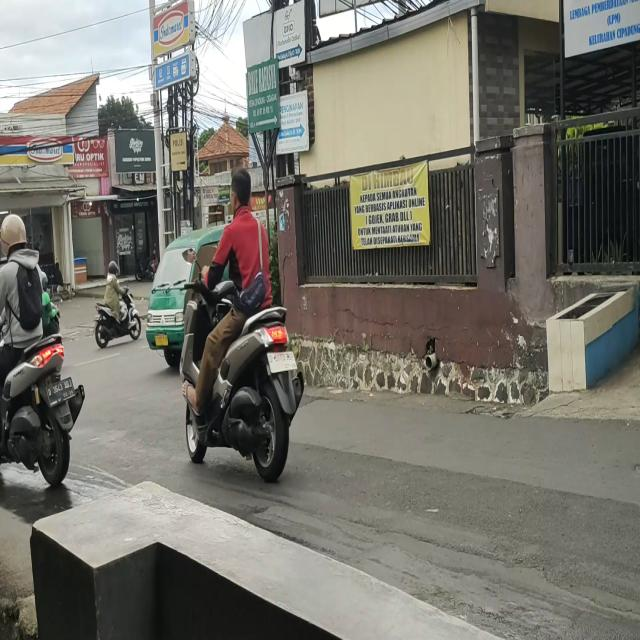helmet: (0, 212, 27, 258), (108, 259, 120, 278)
no-helmet: (225, 169, 253, 215)
